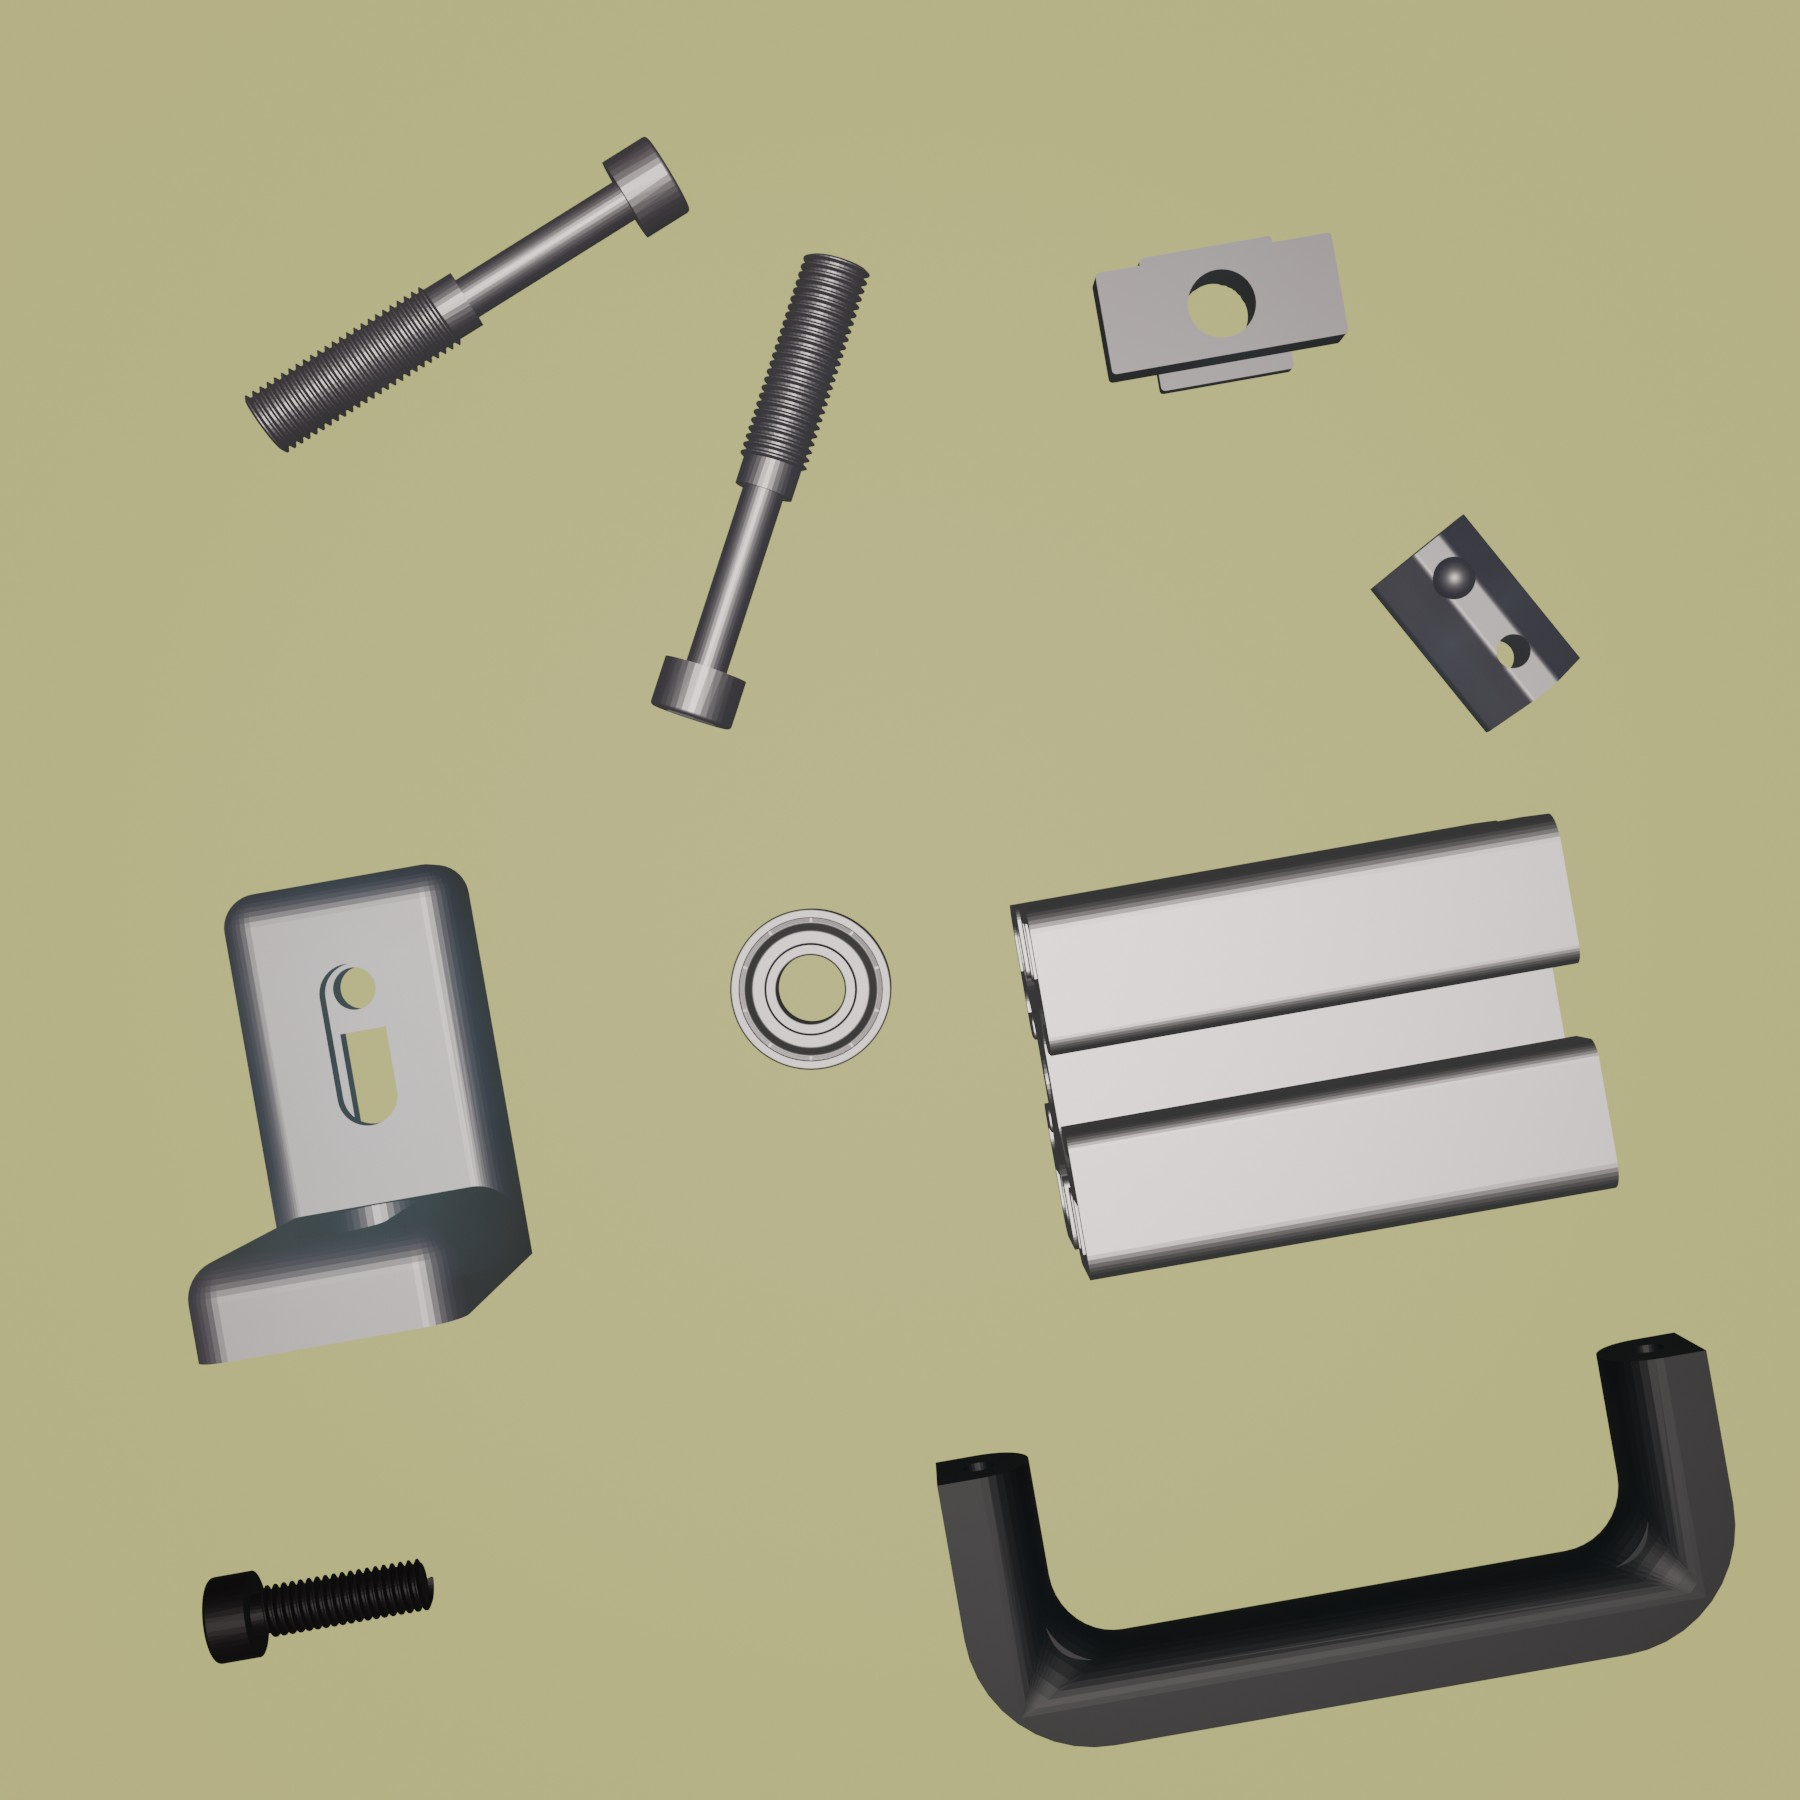Aluminium Extension: (1005, 811, 1624, 1282)
Ball Bearing: (729, 908, 897, 1071)
Multiwinkel: (185, 860, 536, 1368)
Pull Handle: (933, 1330, 1741, 1752)
Shoulder Socket Head Cap Screw: (241, 132, 694, 457), (648, 249, 874, 735)
Socket Head Cap Screw: (199, 1554, 438, 1666)
T Nut Square: (1090, 227, 1352, 396)
T Spring Nut: (1366, 511, 1581, 737)
